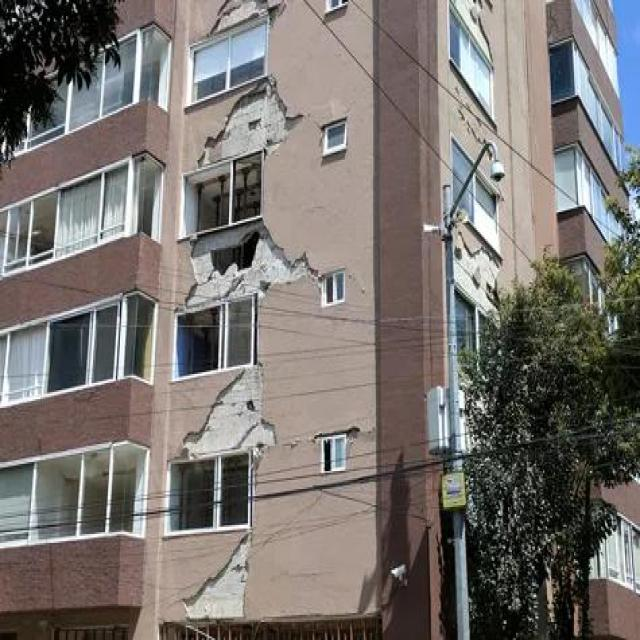damage: (158, 363, 322, 474), (167, 65, 310, 179), (172, 230, 327, 322), (155, 536, 305, 621), (434, 205, 516, 318), (432, 66, 496, 160), (192, 0, 291, 45)
